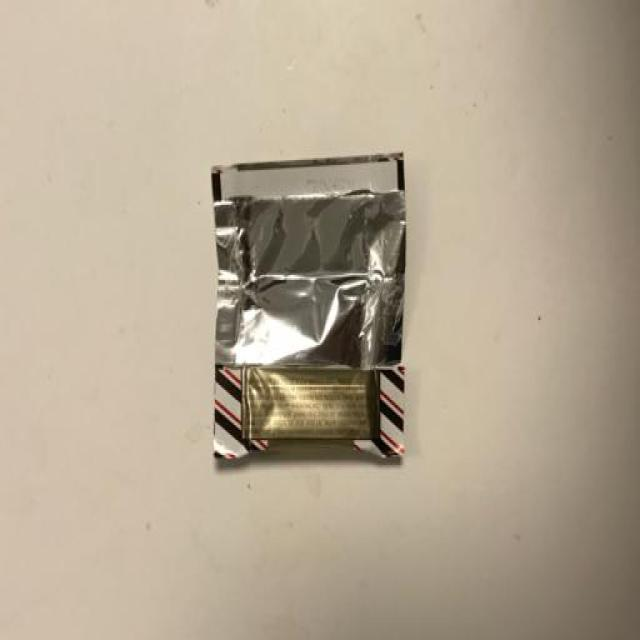Random Trash: (212, 158, 405, 457)
